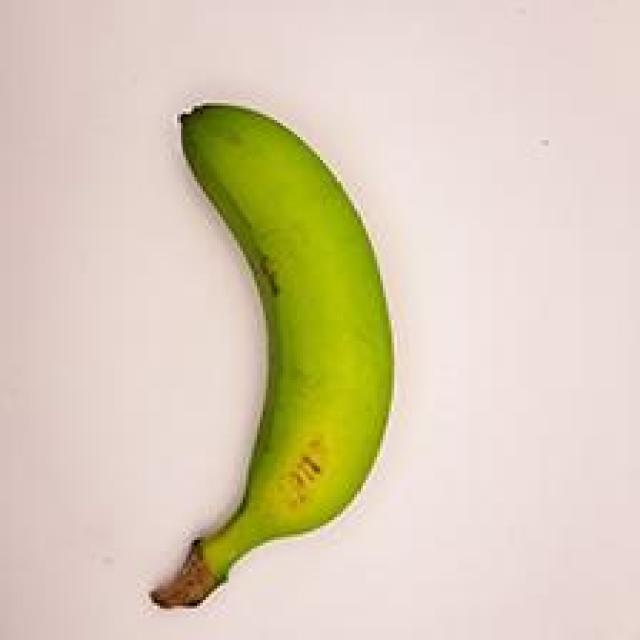Unripe: (96, 89, 420, 618)
